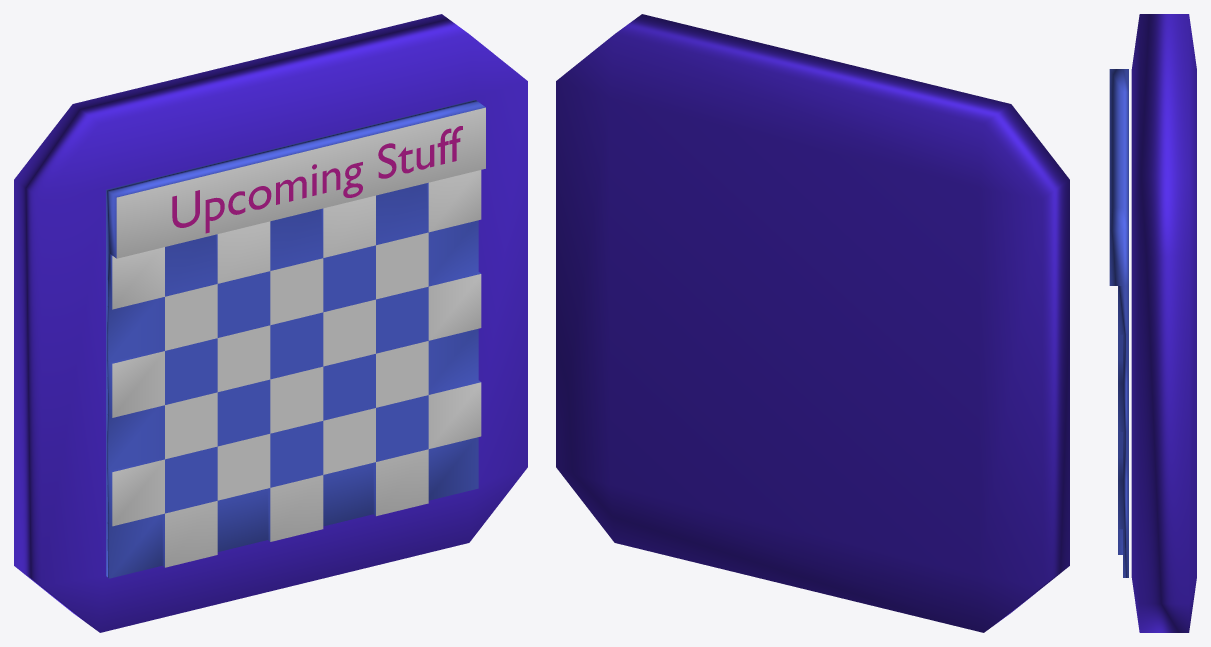
Rendered from Calendar.glb.
3 views of the same model, side by side, from view 1: azimuth 30°, elevation 25°; view 2: azimuth 150°, elevation 25°; view 3: azimuth 270°, elevation 25° (orthographic). The views are drawn at different scales.
Visible parts, largest first — view 1: Cube, Cube.001, Text; view 2: Cube.001; view 3: Cube.001, Cube.
Boxes of the visible parts, x1,y1,x2,y2 form: Cube: (106, 99, 485, 578); Cube.001: (14, 14, 527, 632); Text: (172, 126, 462, 233); Cube.001: (556, 14, 1069, 632); Cube.001: (1131, 14, 1196, 632); Cube: (1109, 69, 1128, 577).
Bounding box in the file's own units: 1.54 × 1.54 × 0.3016.
